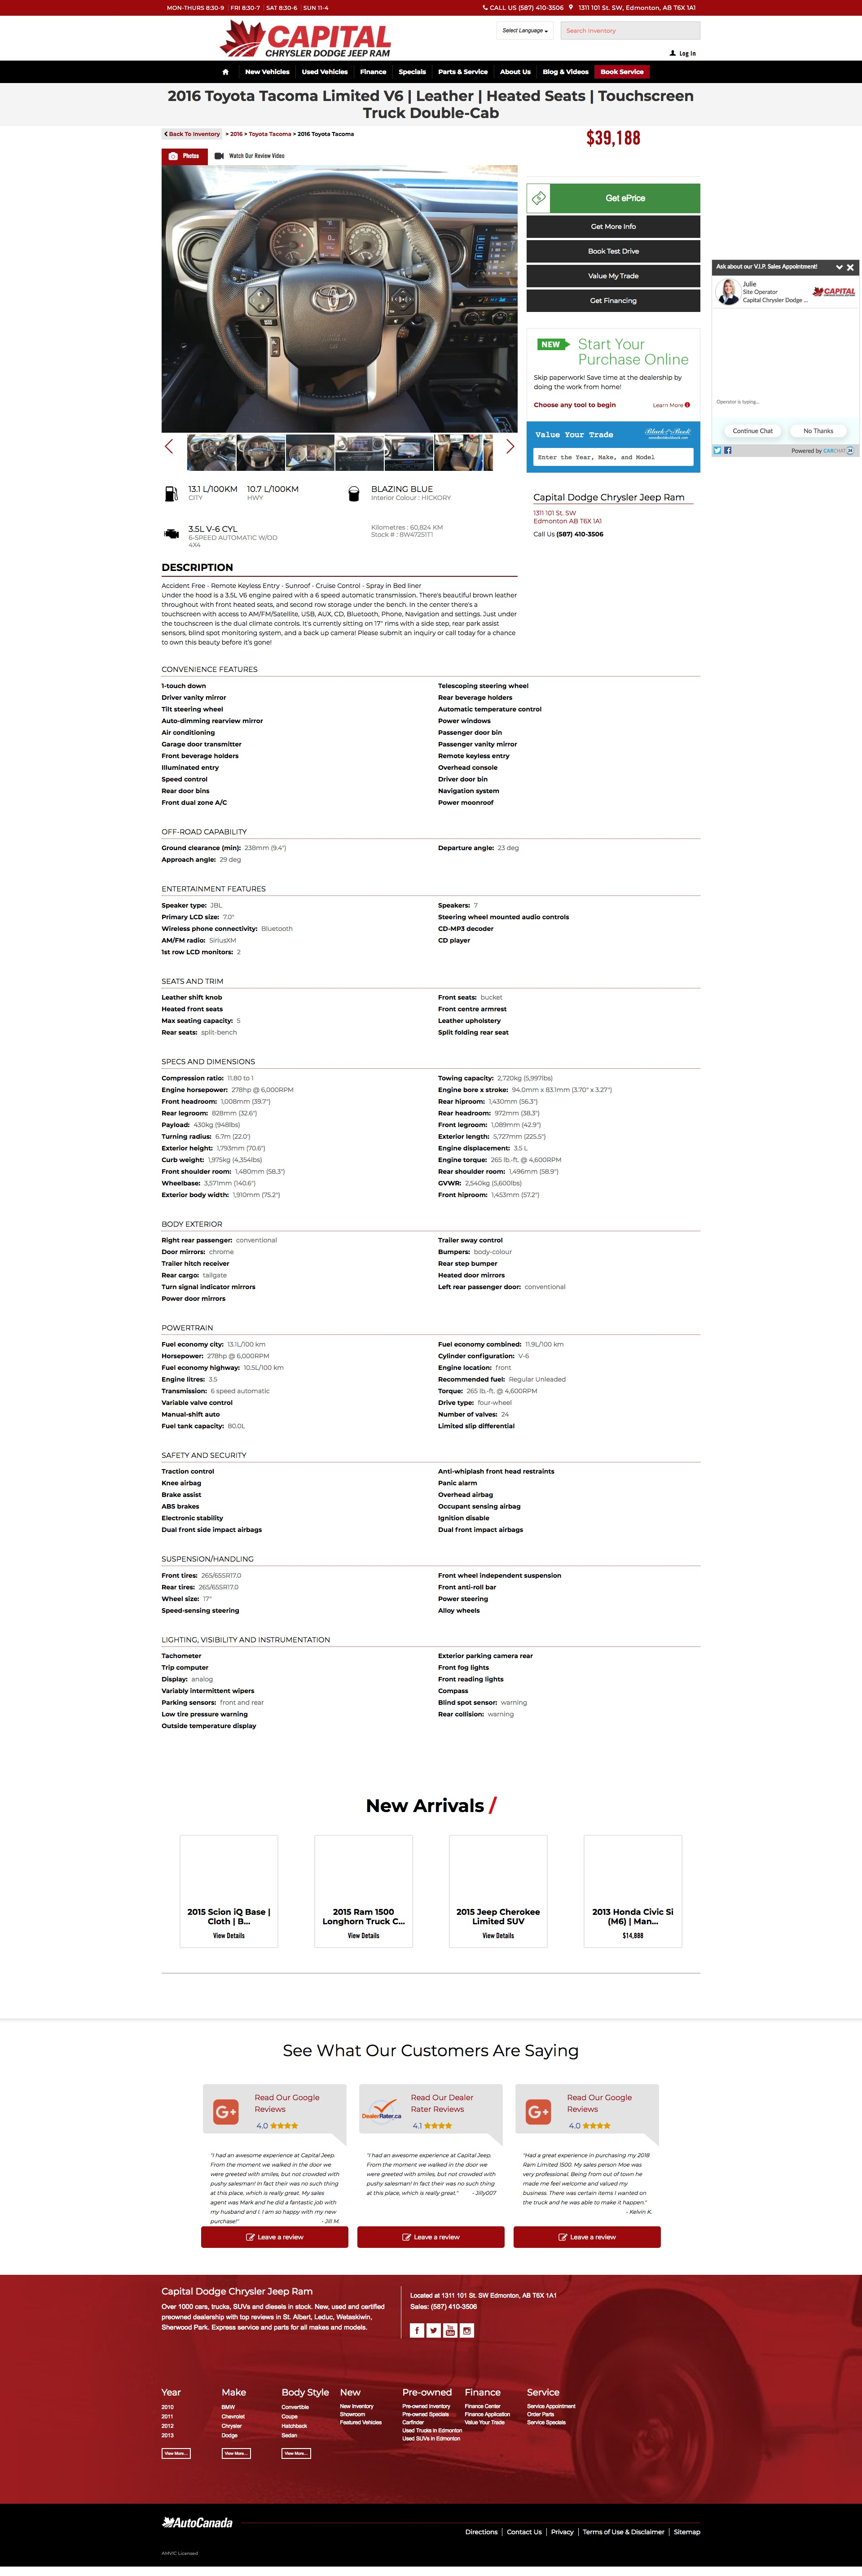car: (504, 439, 516, 457)
